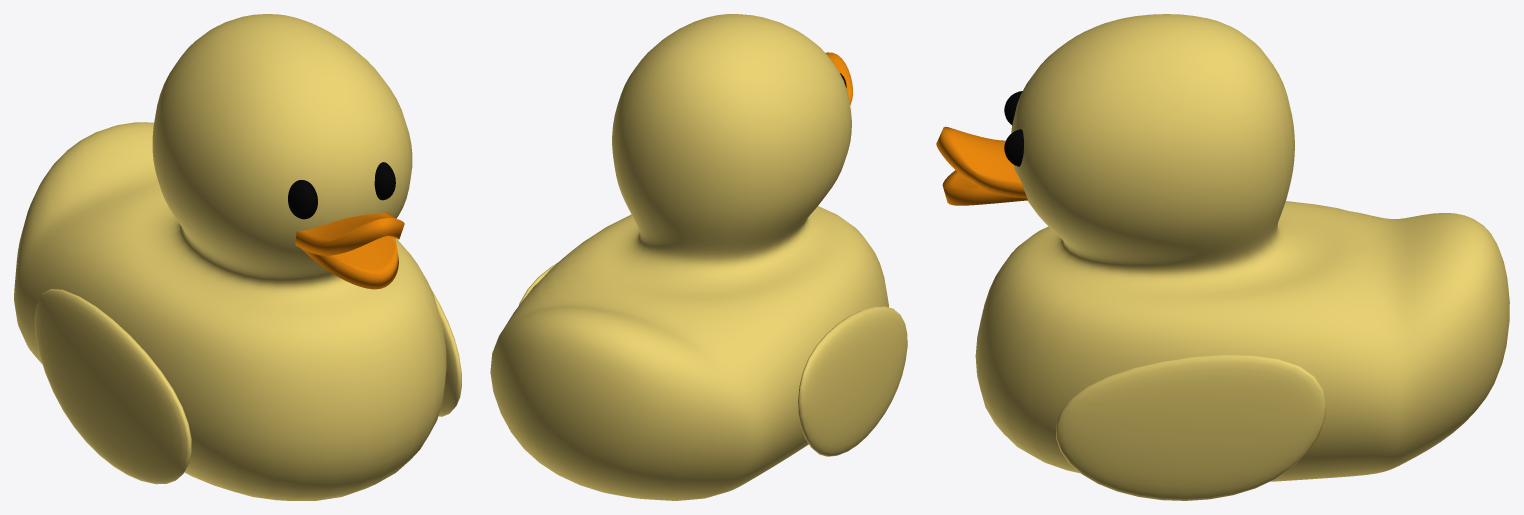
The model's file is duck.fbx.
3 renders of one model, left to right at view 1: azimuth 30°, elevation 25°; view 2: azimuth 150°, elevation 25°; view 3: azimuth 270°, elevation 25°, orthographic. The views are drawn at different scales.
Parts seen in each view (by area): view 1: Cube, Cube.001, Plane, Plane.001, Sphere; view 2: Cube, Cube.001; view 3: Cube, Cube.001, Plane, Plane.001, Sphere.
Part boxes in pixels (<box>): Cube: <box>14,14,446,500</box>; Cube.001: <box>34,289,461,484</box>; Plane: <box>295,212,404,255</box>; Plane.001: <box>301,236,398,289</box>; Sphere: <box>288,162,395,219</box>; Cube: <box>490,14,888,500</box>; Cube.001: <box>519,263,907,456</box>; Cube: <box>975,14,1509,481</box>; Cube.001: <box>1056,354,1326,500</box>; Plane: <box>936,126,1027,198</box>; Plane.001: <box>942,170,1027,205</box>; Sphere: <box>1004,91,1023,166</box>.
Bounding box in the file's own units: 140 × 182 × 217.
